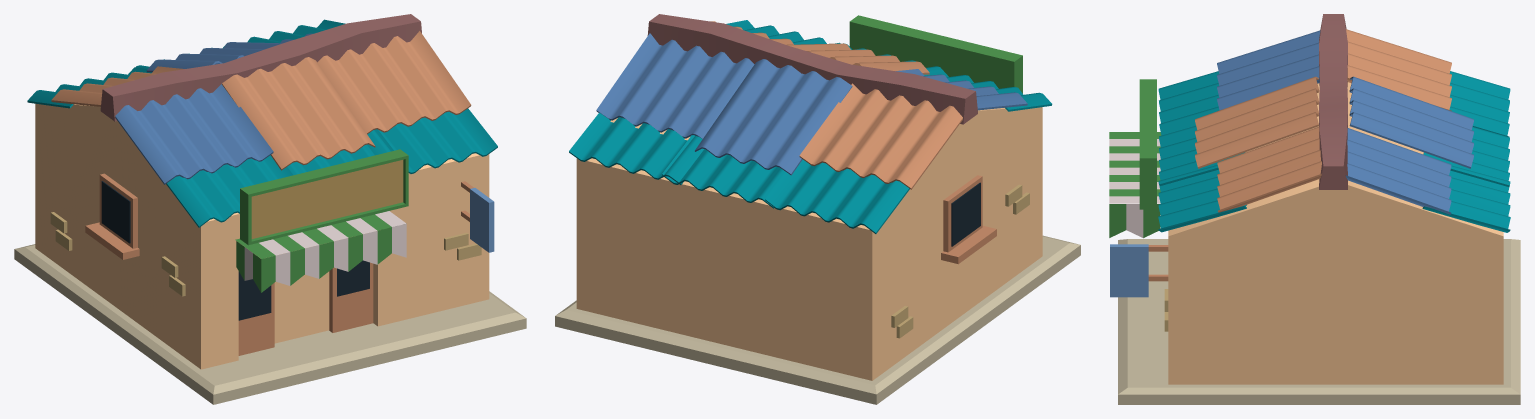
Rendered from Country_store01.fbx.
The picture shows the model from 3 angles, left to right: view 1: azimuth 30°, elevation 25°; view 2: azimuth 150°, elevation 25°; view 3: azimuth 270°, elevation 25°; orthographic projection. The views are drawn at different scales.
Visible parts, largest first — view 1: Country_store01; view 2: Country_store01; view 3: Country_store01.
Part boxes in pixels (left/top/right/bottom): Country_store01: left=14, top=14, right=526, bottom=404; Country_store01: left=555, top=14, right=1080, bottom=404; Country_store01: left=1109, top=14, right=1520, bottom=404.
Size of the model in its own units: 76.86 by 85.25 by 55.14.
